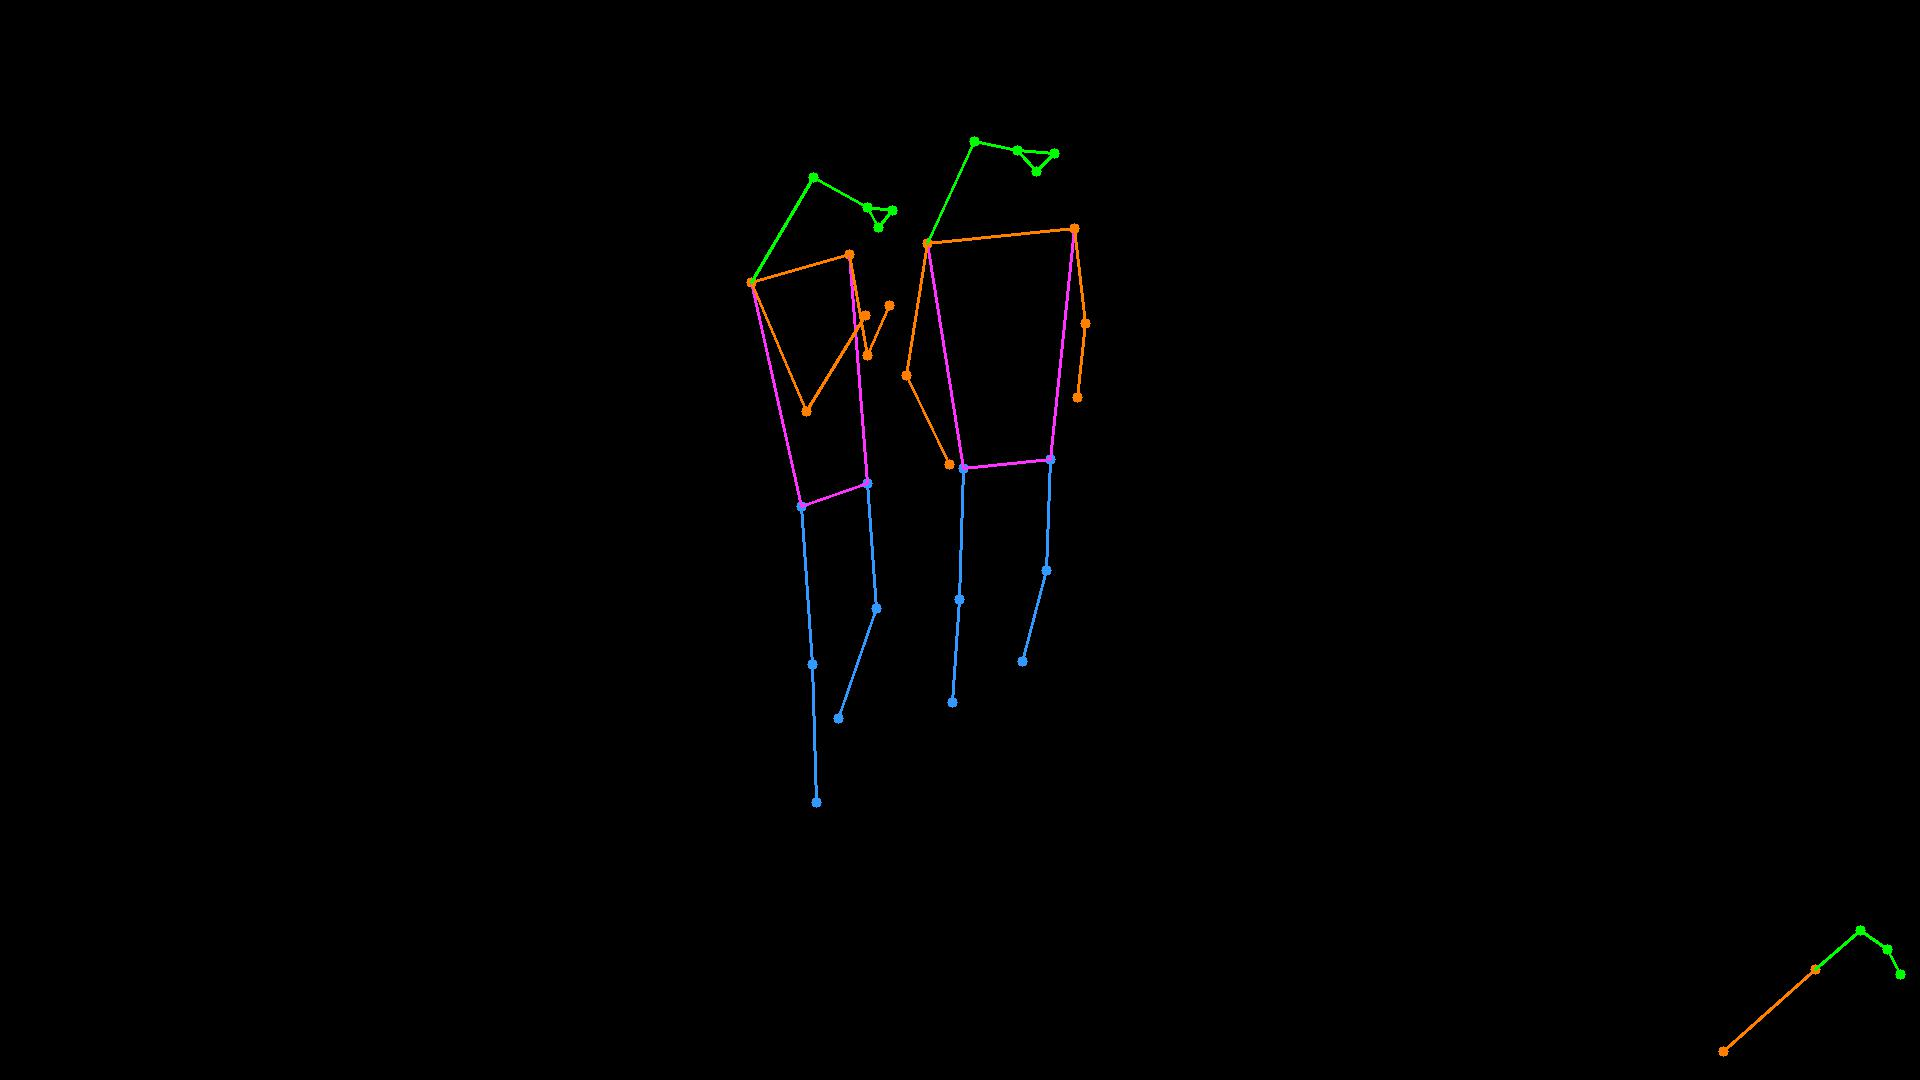normal: (686, 92, 1160, 820)
